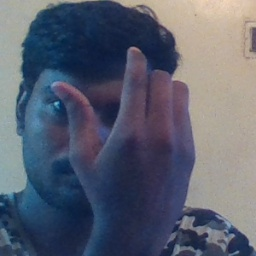U: (54, 44, 198, 215)
